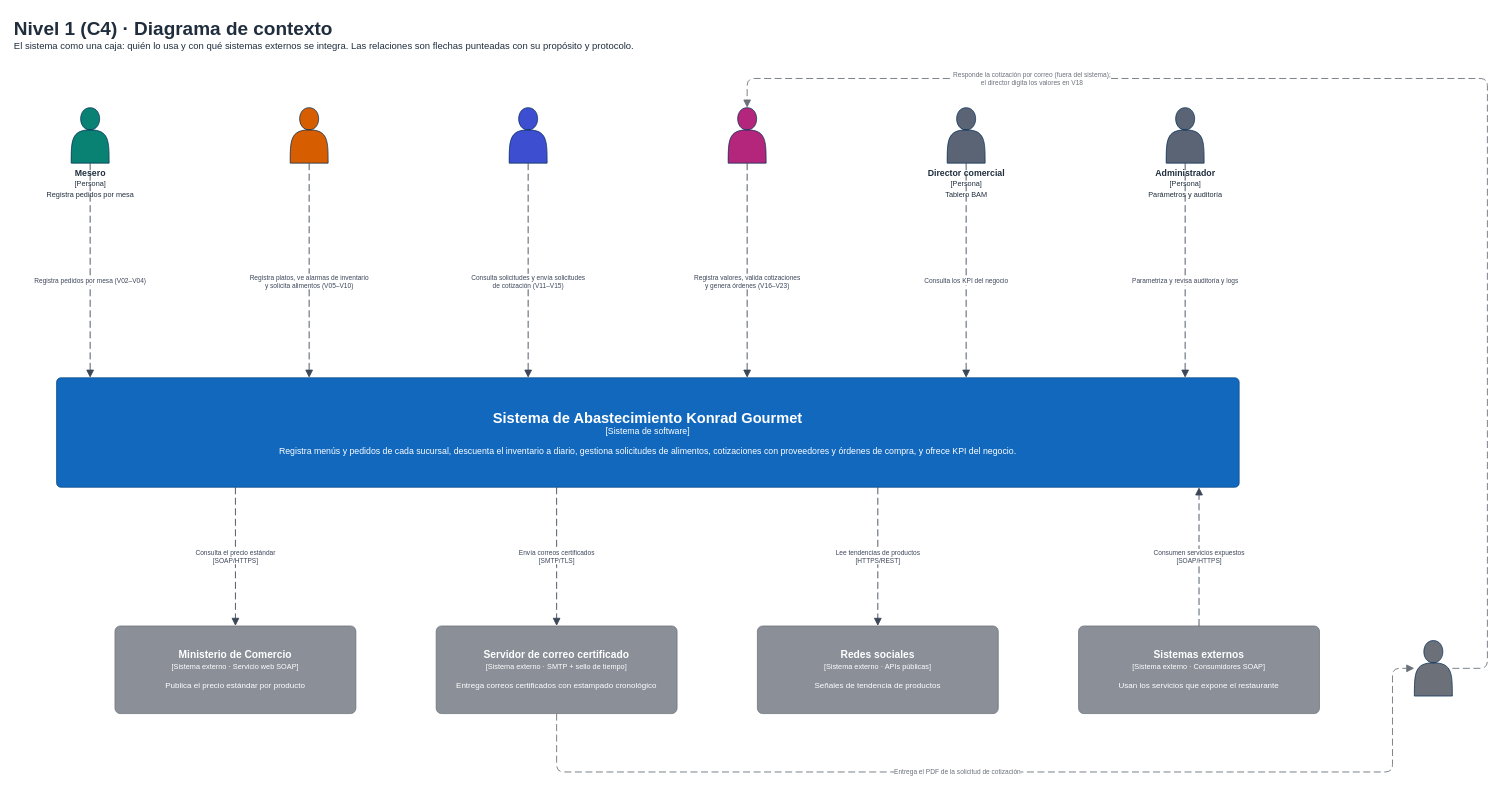
This 1507x792 diagram has some shape labels left out. The centre of each missing label's shape, as x and y in pixels:
"Auxiliar de compras [Persona] Solicitudes y cotizaciones" belongs at (x=527, y=135).
"Director de compras [Persona] Valida y compra" belongs at (x=746, y=135).
"Jefe de cocina [Persona] Platos, inventario y solicitudes" belongs at (x=308, y=135).
"Proveedor [Persona externa] Cotiza y vende alimentos" belongs at (x=1433, y=668).
